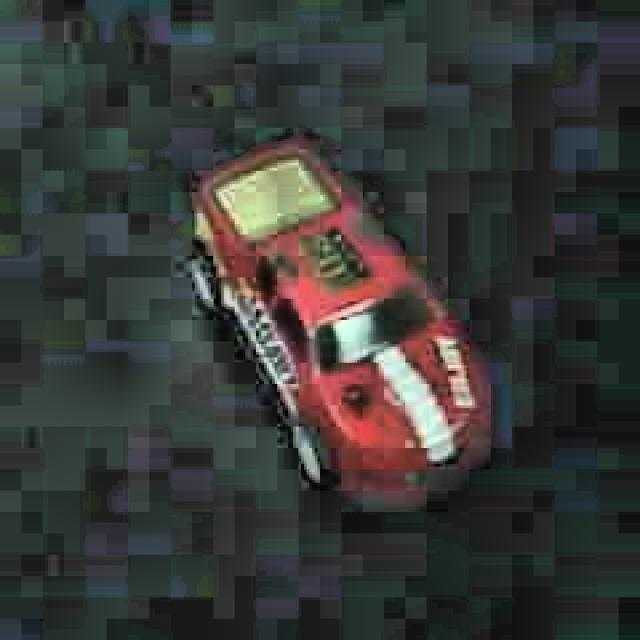car: (182, 134, 498, 520)
